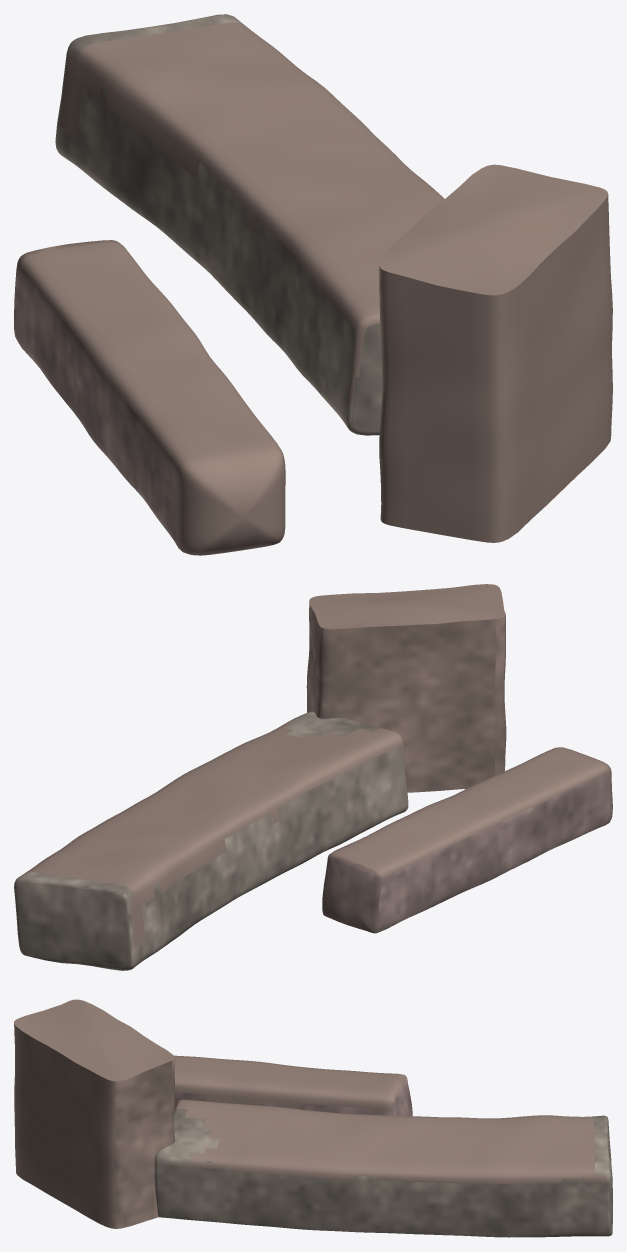
Rendered from VerHenge05.glb.
3 renders of one model, top to bottom at view 1: azimuth 30°, elevation 25°; view 2: azimuth 150°, elevation 25°; view 3: azimuth 270°, elevation 25°, orthographic. The views are drawn at different scales.
Parts seen in each view (by area): view 1: VerHenge05; view 2: VerHenge05; view 3: VerHenge05.
Part boxes in pixels (x1,y1,x2,y2): VerHenge05: (14,14,612,555); VerHenge05: (14,584,612,970); VerHenge05: (14,999,612,1237).
Size of the model in its own units: 3.06 by 1.56 by 5.5.
Materials: 2 (1 with a texture image).
